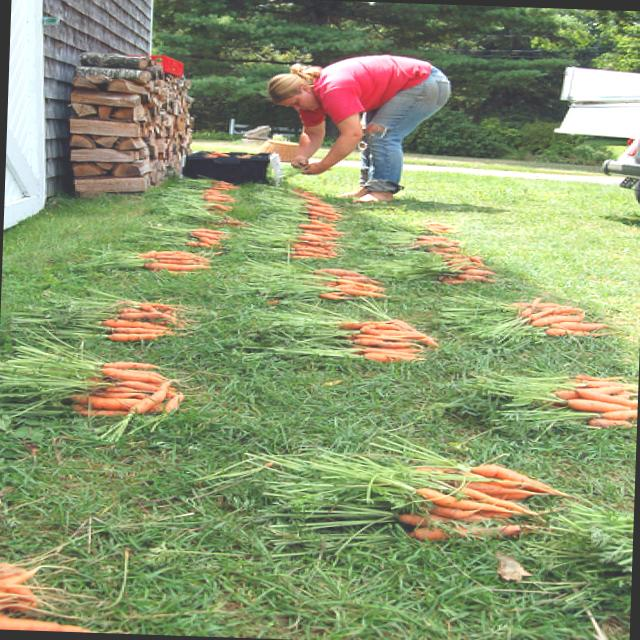Vehicle: (556, 68, 640, 214)
